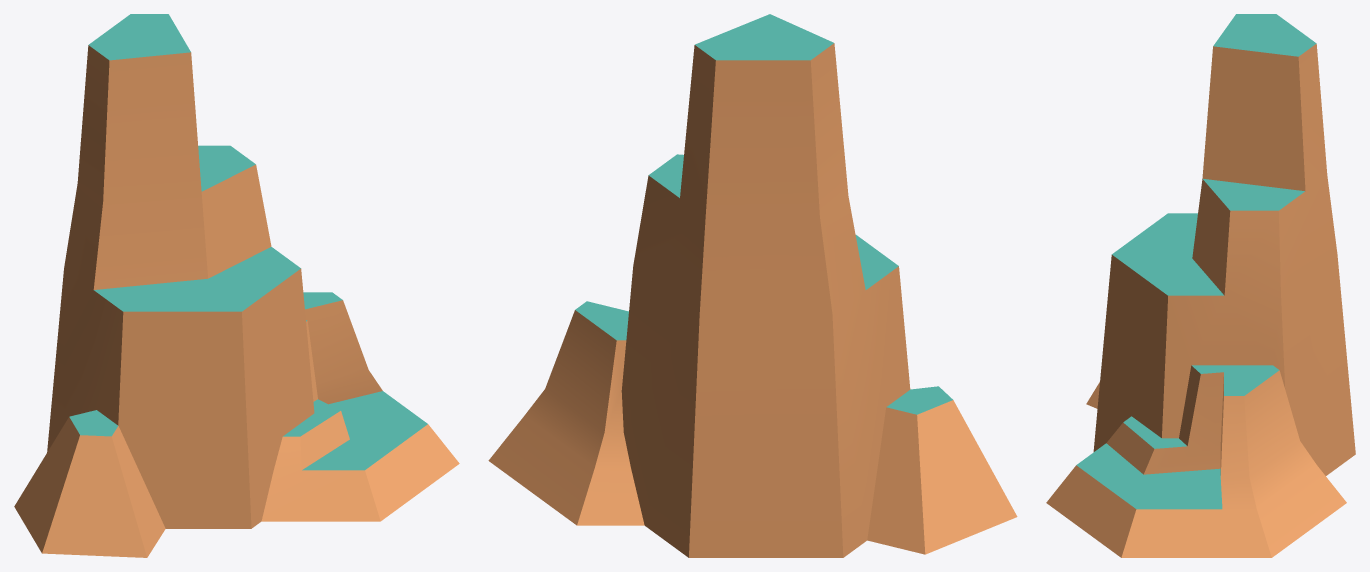
File: rock_tall1.fbx
3 views of the same model, side by side, from view 1: azimuth 30°, elevation 25°; view 2: azimuth 150°, elevation 25°; view 3: azimuth 270°, elevation 25° (orthographic). The views are drawn at different scales.
Parts seen in each view (by area): view 1: rock_tall1; view 2: rock_tall1; view 3: rock_tall1.
Part boxes in pixels (left/top/right/bottom): rock_tall1: left=14, top=14, right=459, bottom=557; rock_tall1: left=488, top=14, right=1017, bottom=557; rock_tall1: left=1046, top=14, right=1355, bottom=557.
Bounding box in the file's own units: 9.83 × 9.96 × 6.83.
